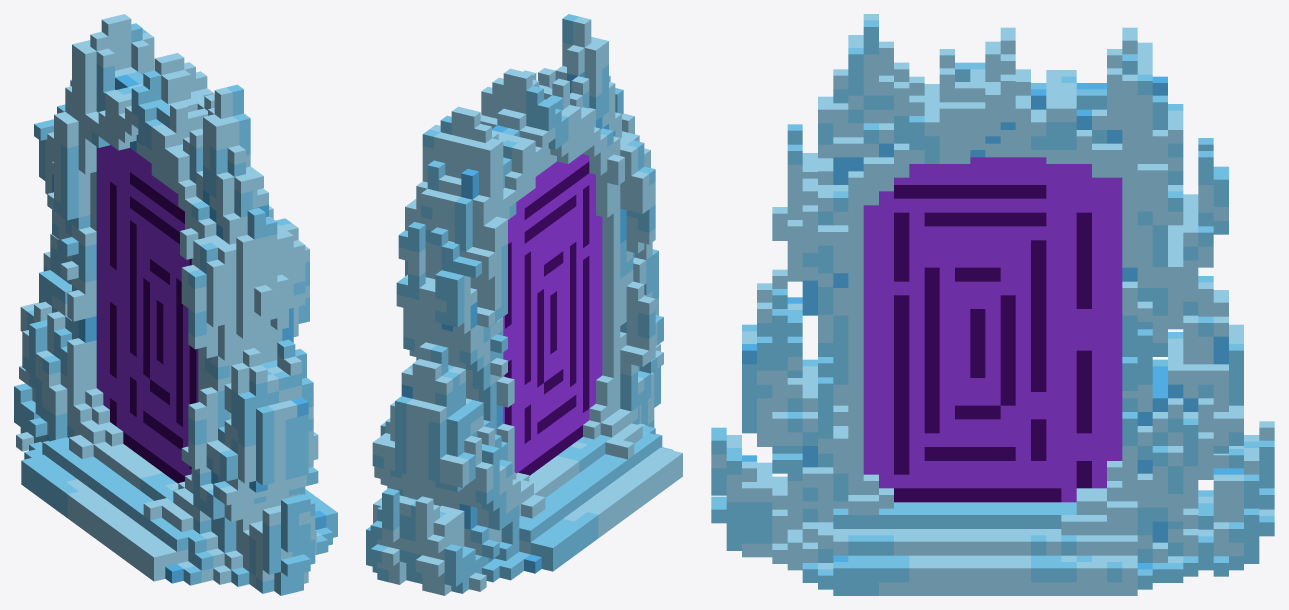
Rendered from PortalWinterfall.obj.
The picture shows the model from 3 angles, left to right: view 1: azimuth 30°, elevation 25°; view 2: azimuth 150°, elevation 25°; view 3: azimuth 270°, elevation 25°; orthographic projection. The views are drawn at different scales.
Size of the model in its own units: 1.6 by 3.8 by 3.7.
Materials: 1 (1 with a texture image).
